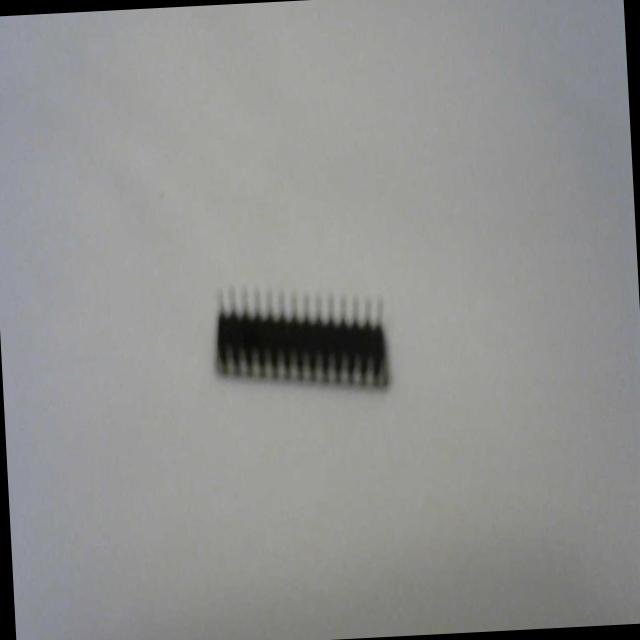atmega: (208, 272, 394, 403)
